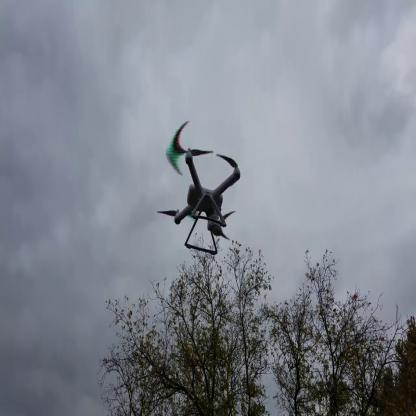drone: (151, 120, 240, 253)
